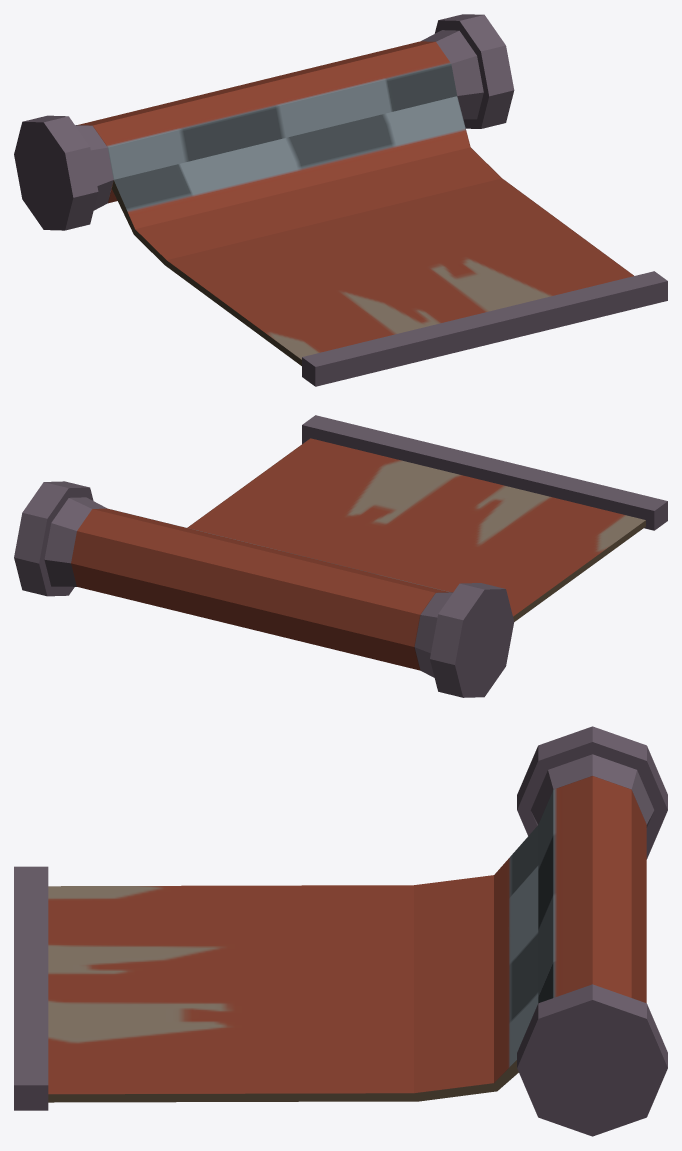
File: Scroll_Brocken.fbx
The picture shows the model from 3 angles, top to bottom: view 1: azimuth 30°, elevation 25°; view 2: azimuth 150°, elevation 25°; view 3: azimuth 270°, elevation 25°; orthographic projection. The views are drawn at different scales.
Parts seen in each view (by area): view 1: Scroll_Brocken; view 2: Scroll_Brocken; view 3: Scroll_Brocken.
Part boxes in pixels (x1,y1,x2,y2): Scroll_Brocken: [14, 14, 667, 386]; Scroll_Brocken: [14, 415, 667, 697]; Scroll_Brocken: [14, 726, 667, 1136].
Size of the model in its own units: 0.491 by 0.1156 by 0.4961.
1 material, 1 textured.
